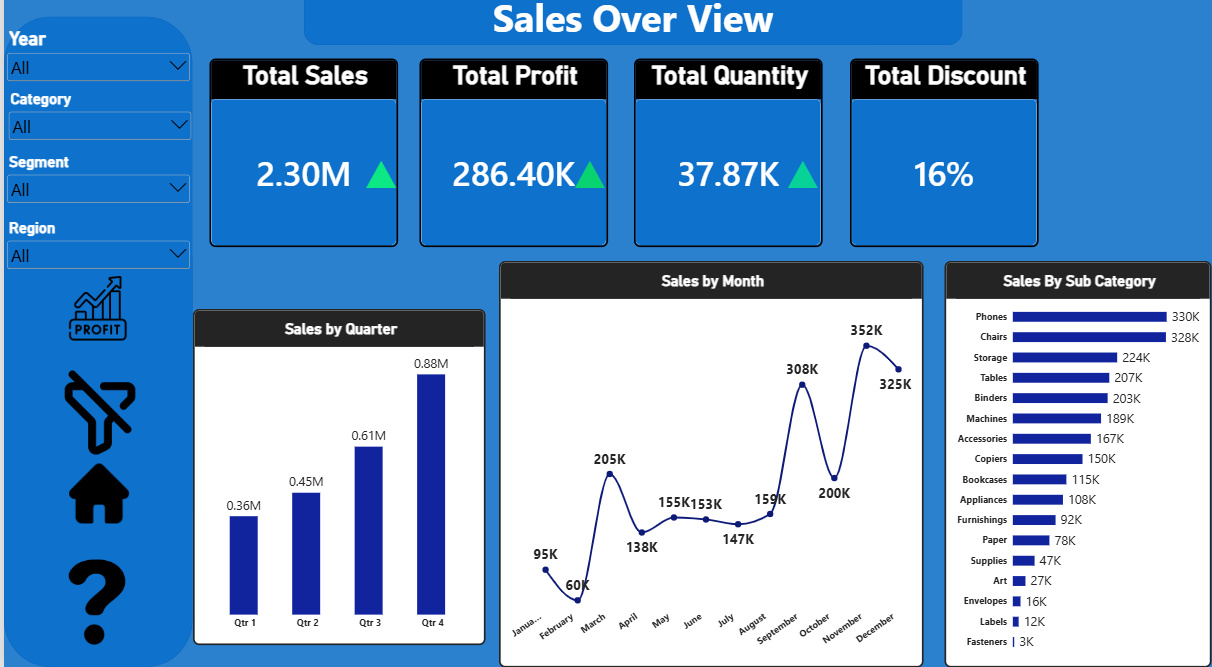

What the dashboard file says about the page in this screenshot:
{"tool":"powerbi","page":{"name":"Sales over View","canvas":[1920,1080],"ordinal":1},"visuals":[{"type":"shape","box":[477.2,0,1047.4,90.7],"z":0},{"type":"actionButton","box":[625.1,0,750.9,89.9],"z":1000},{"type":"cardVisual","title":"Total Sales","fields":{"Data":["Sum(Sample - Superstore (1).Sales)"]},"box":[326.9,112.1,300,300],"z":2000},{"type":"cardVisual","title":"Total Profit","fields":{"Data":["Sum(Sample - Superstore (1).Profit)"]},"box":[660.9,112.1,300,300],"z":3000},{"type":"cardVisual","title":"Total Quantity","fields":{"Data":["Sum(Sample - Superstore (1).Quantity)"]},"box":[1002.1,112.1,300,300],"z":4000},{"type":"cardVisual","title":"Total Discount","fields":{"Data":["Avg(Sample - Superstore (1).Discount)"]},"box":[1345.7,112.1,300,300],"z":5000},{"type":"barChart","title":" Sales By Sub Category","fields":{"Y":["Sum(Sample - Superstore (1).Sales)"],"Category":["Sample - Superstore (1).Sub-Category"]},"box":[1496,434.2,424.7,646.6],"z":6000},{"type":"lineChart","title":" Sales by Month","fields":{"Category":["caledar.Date.Variation.Date Hierarchy.Month"],"Y":["Sum(Sample - Superstore (1).Sales)"]},"box":[787.4,434.2,675.2,646.6],"z":7000},{"type":"columnChart","title":" Sales by Quarter","fields":{"Category":["caledar.Date.Variation.Date Hierarchy.Quarter"],"Y":["Sum(Sample - Superstore (1).Sales)"]},"box":[300.6,510.6,465.3,534.4],"z":8000},{"type":"shape","box":[0,45,300,1035],"z":9000},{"type":"slicer","fields":{"Values":["caledar.Date.Variation.Date Hierarchy.Year"]},"box":[0,62,300.6,97.8],"z":10000},{"type":"slicer","fields":{"Values":["Sample - Superstore (1).Category"]},"box":[2.4,162.2,300.6,100.2],"z":11000},{"type":"slicer","fields":{"Values":["Sample - Superstore (1).Segment"]},"box":[0,262.5,300.6,105],"z":12000},{"type":"slicer","fields":{"Values":["Sample - Superstore (1).Region"]},"box":[0,367.4,300.6,109.8],"z":13000},{"type":"image","box":[2.5,608.7,301,150],"z":14000},{"type":"image","box":[26.2,756.3,250,95],"z":16000},{"type":"image","box":[72.5,910,152.5,135],"z":17000},{"type":"cardVisual","fields":{"Data":["Sample - Superstore (1).Arrow"]},"box":[539.2,257.7,121.7,71.6],"z":18000},{"type":"image","box":[11.9,458.1,274.4,102.6],"z":22000},{"type":"cardVisual","fields":{"Data":["Sample - Superstore (1).Arrow Profit"]},"box":[883.3,244.9,99,96.5],"z":25000},{"type":"cardVisual","fields":{"Data":["Sample - Superstore (1).Arrow QoQ"]},"box":[1222.3,244.9,99,96.5],"z":26000}]}

Visuals, with their boxes in screenshot pixels (x1, y1, x2, y2), scaled from the page's 1920x1080 canvas onto the 1212x667 screenshot:
shape: <bbox>301, 0, 962, 56</bbox>
actionButton: <bbox>395, 0, 869, 56</bbox>
"Total Sales" cardVisual: <bbox>206, 69, 396, 255</bbox>
"Total Profit" cardVisual: <bbox>417, 69, 607, 255</bbox>
"Total Quantity" cardVisual: <bbox>633, 69, 822, 255</bbox>
"Total Discount" cardVisual: <bbox>849, 69, 1039, 255</bbox>
" Sales By Sub Category" barChart: <bbox>944, 268, 1211, 666</bbox>
" Sales by Month" lineChart: <bbox>497, 268, 923, 666</bbox>
" Sales by Quarter" columnChart: <bbox>190, 315, 483, 645</bbox>
shape: <bbox>0, 28, 189, 666</bbox>
slicer - caledar.Date.Variation.Date Hierarchy.Year: <bbox>0, 38, 190, 99</bbox>
slicer - Sample - Superstore (1).Category: <bbox>2, 100, 191, 162</bbox>
slicer - Sample - Superstore (1).Segment: <bbox>0, 162, 190, 227</bbox>
slicer - Sample - Superstore (1).Region: <bbox>0, 227, 190, 295</bbox>
image: <bbox>2, 376, 192, 469</bbox>
image: <bbox>17, 467, 174, 526</bbox>
image: <bbox>46, 562, 142, 645</bbox>
cardVisual - Sample - Superstore (1).Arrow: <bbox>340, 159, 417, 203</bbox>
image: <bbox>8, 283, 181, 346</bbox>
cardVisual - Sample - Superstore (1).Arrow Profit: <bbox>558, 151, 620, 211</bbox>
cardVisual - Sample - Superstore (1).Arrow QoQ: <bbox>772, 151, 834, 211</bbox>
